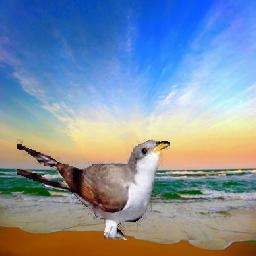Cuckoo: (18, 140, 171, 241)
